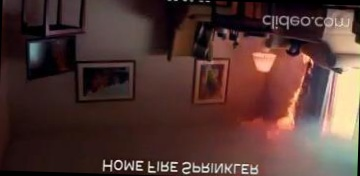fire: (262, 56, 320, 153)
